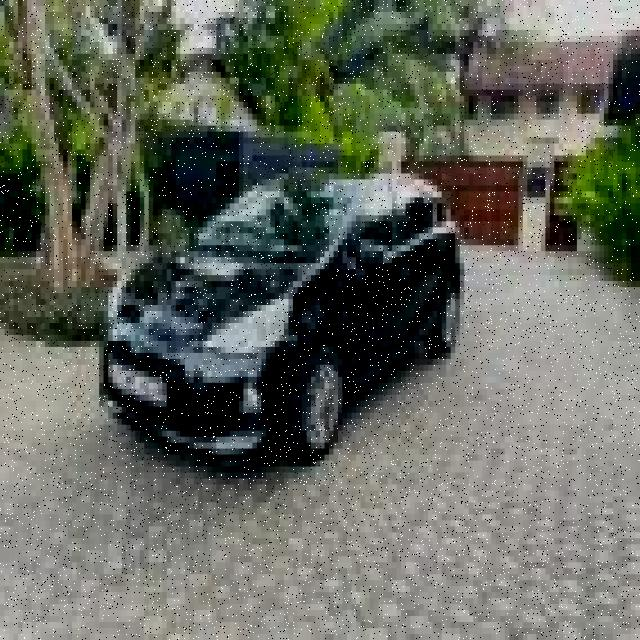car: (112, 171, 458, 442)
